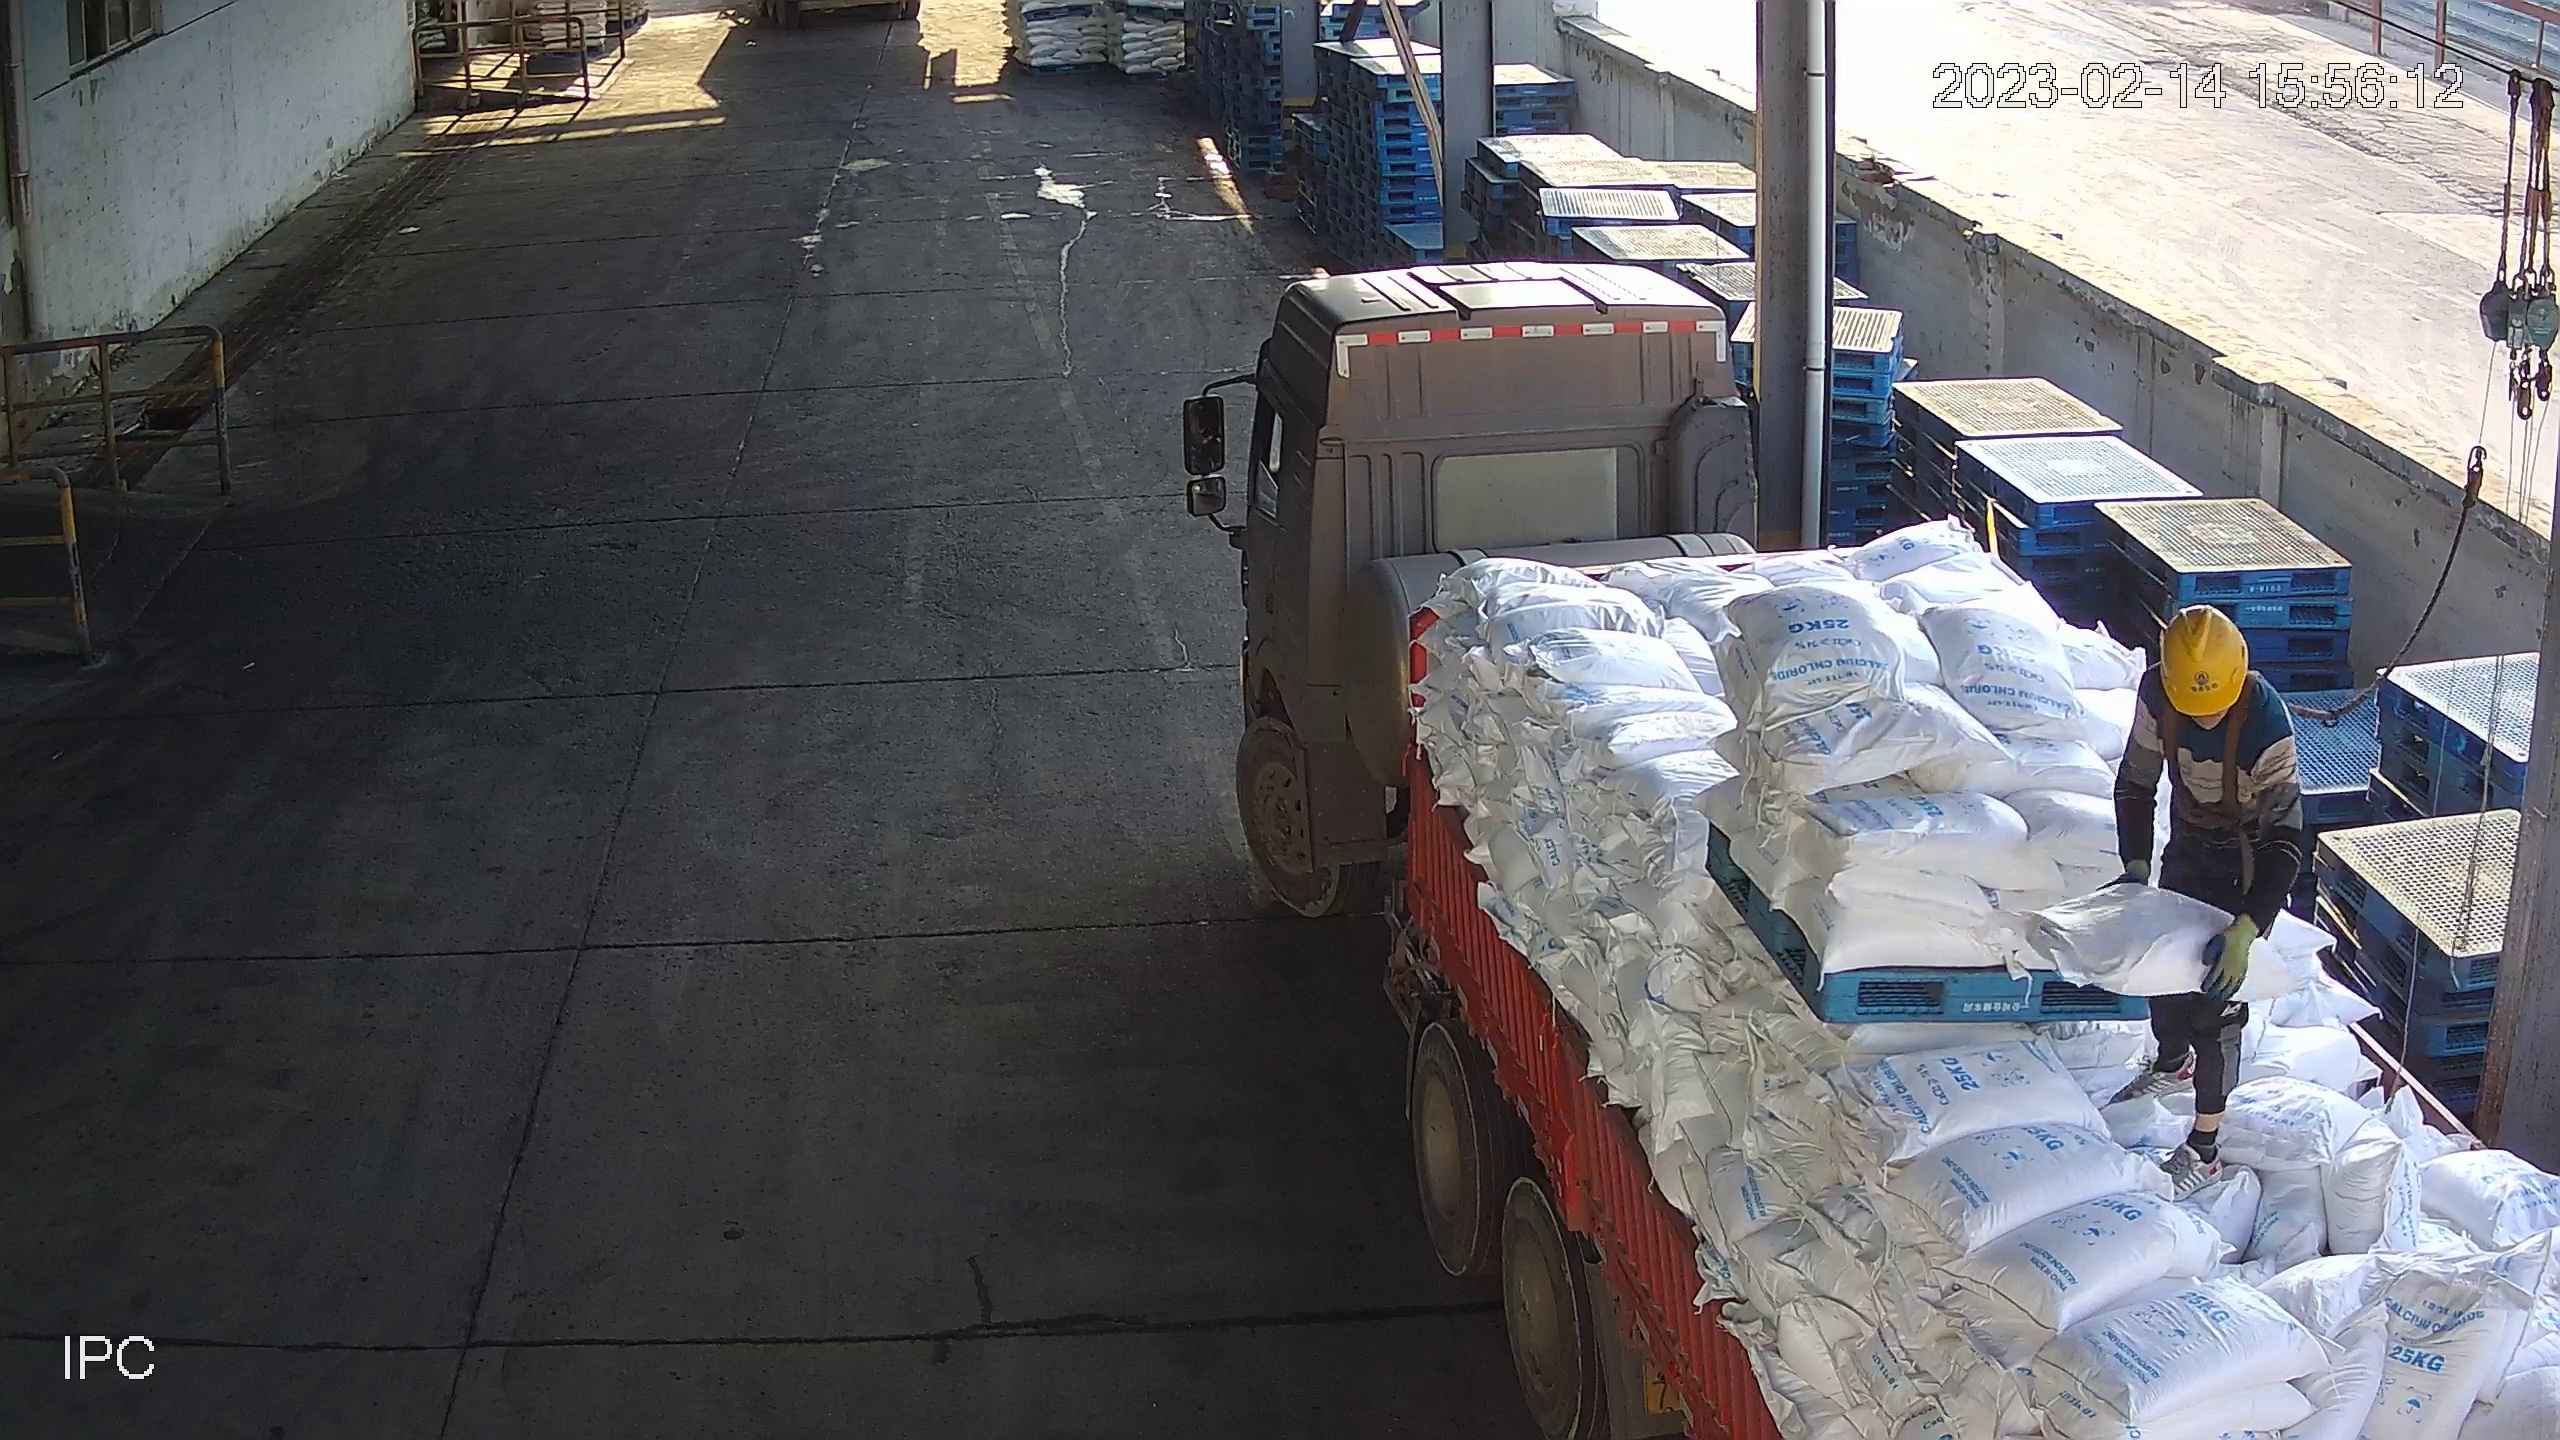belt: (2157, 668, 2339, 837)
head: (2133, 601, 2296, 747)
helmet: (2156, 602, 2249, 717)
people: (2108, 600, 2304, 1199)
truck: (1229, 264, 2560, 1440)
